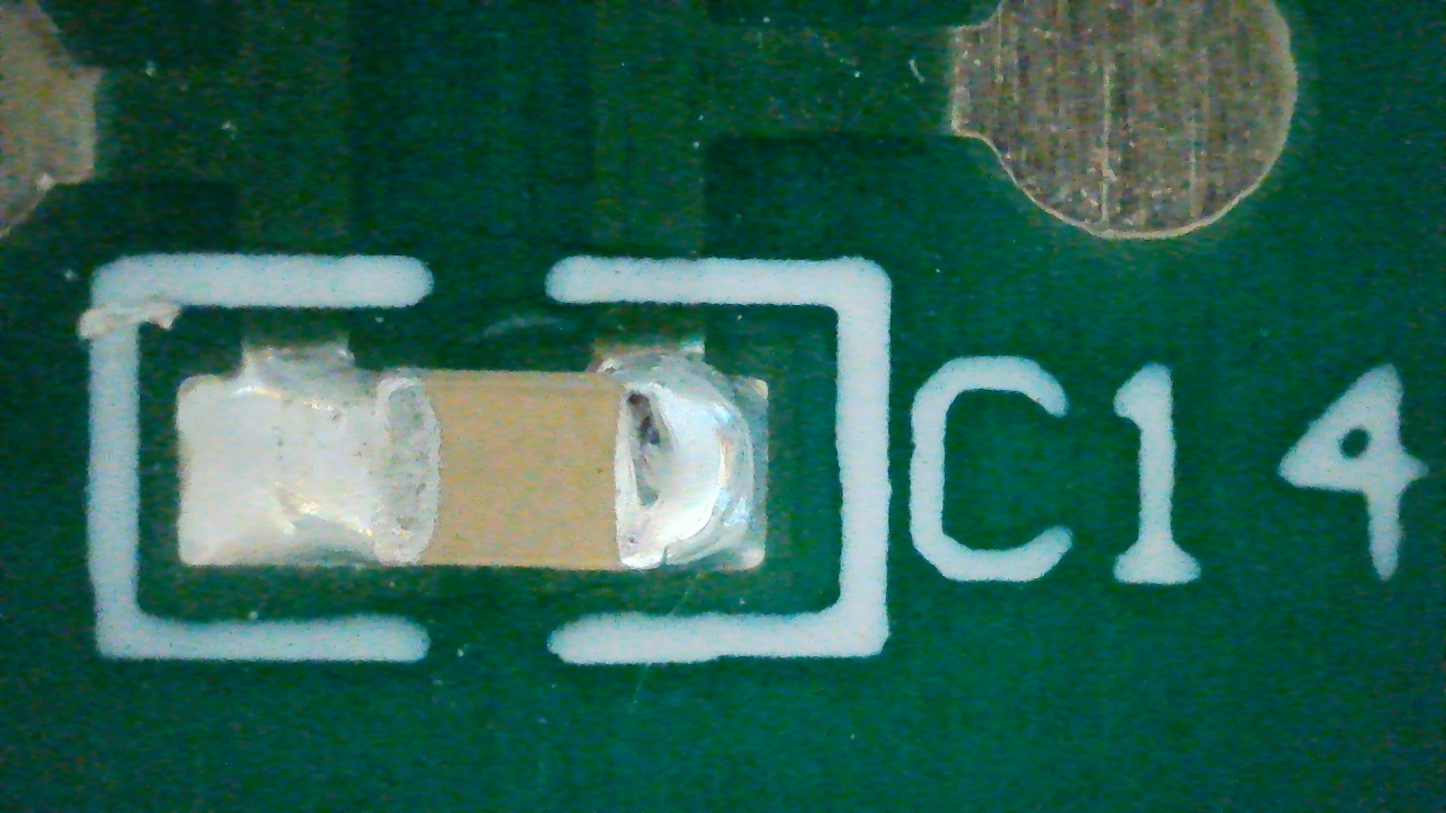OK: (180, 340, 767, 573)
